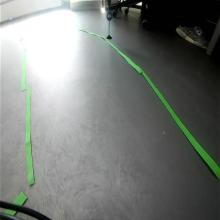left: (106, 11, 113, 22)
